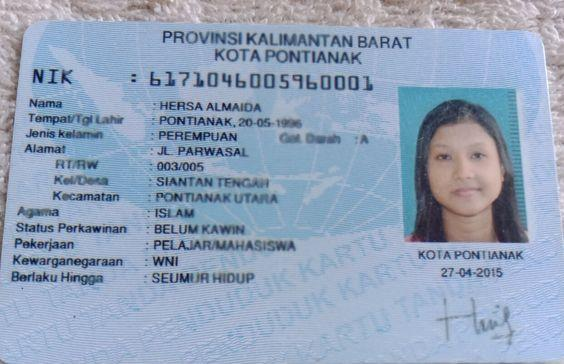ID-card: (0, 16, 560, 361)
